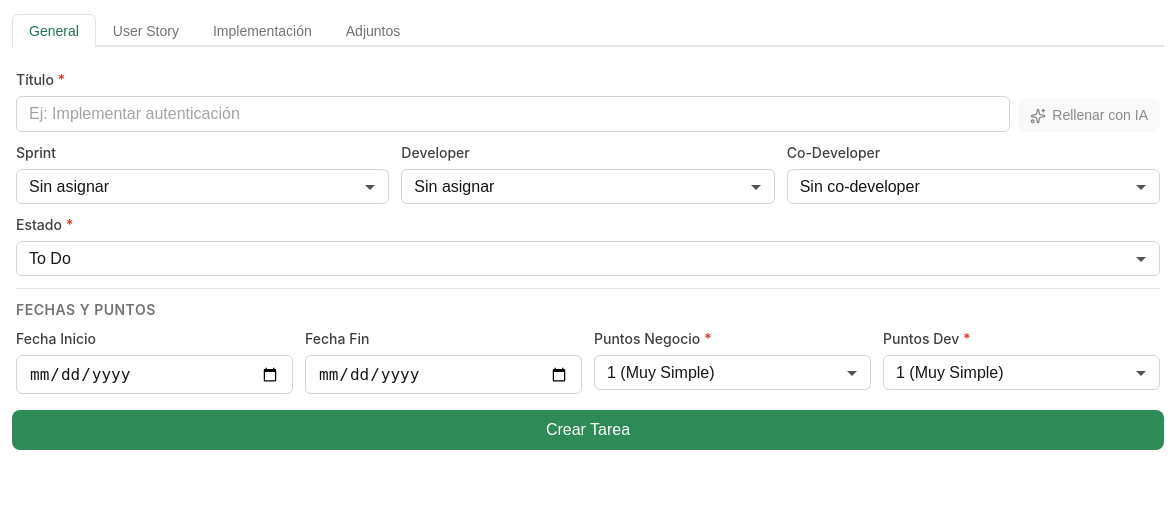
Test: TaskForm Component › should show Implementation plan fields when Implementación tab is clicked
The image size is (1176, 508).
Click the button "Implementación" at (262, 30), box left=196, top=14, right=329, bottom=47
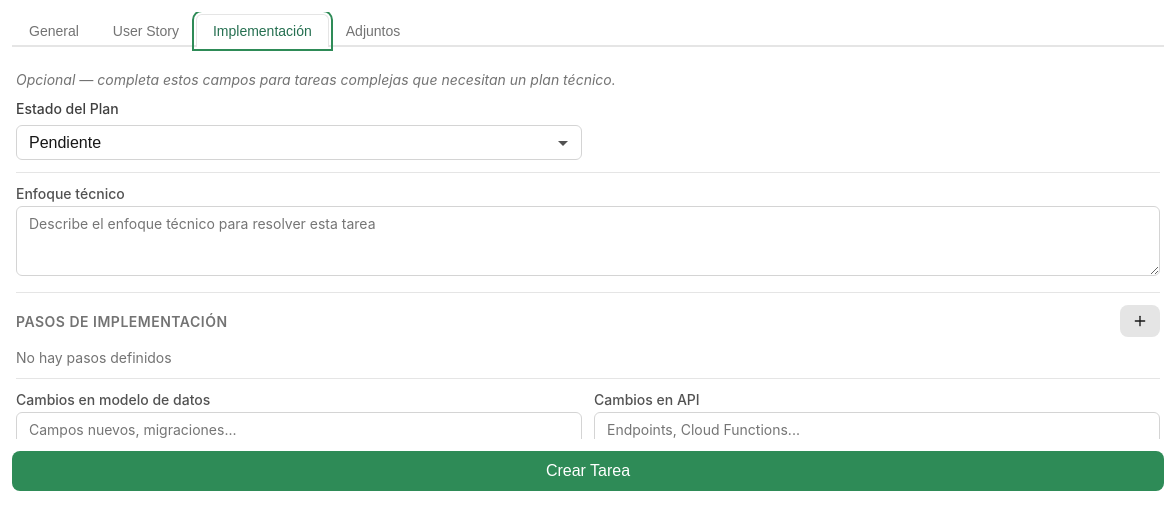
Expected: the text "Estado del Plan" is shown, left=16, top=100, right=119, bottom=117
Expected: the text box with placeholder "Describe el enfoque técnico para resolver esta tarea" is shown, left=16, top=206, right=1160, bottom=276
Expected: the heading "Pasos de implementación" is shown, left=16, top=312, right=228, bottom=330
